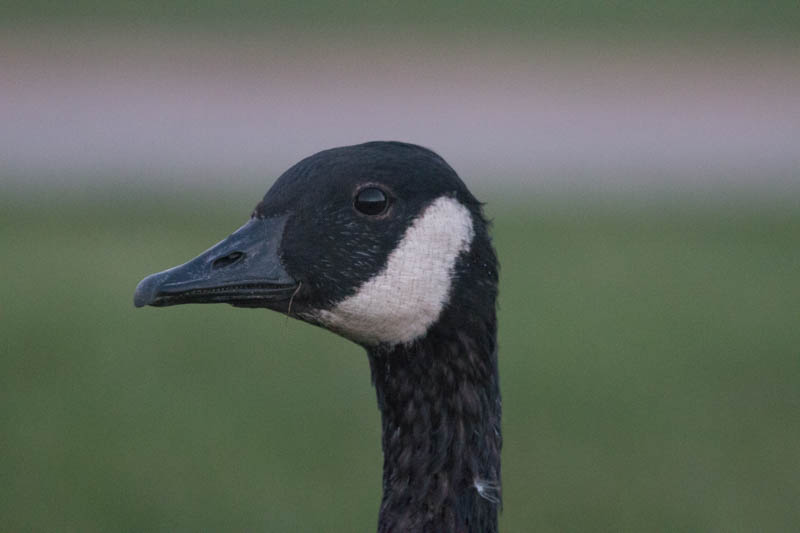goose-head: (131, 140, 499, 355)
